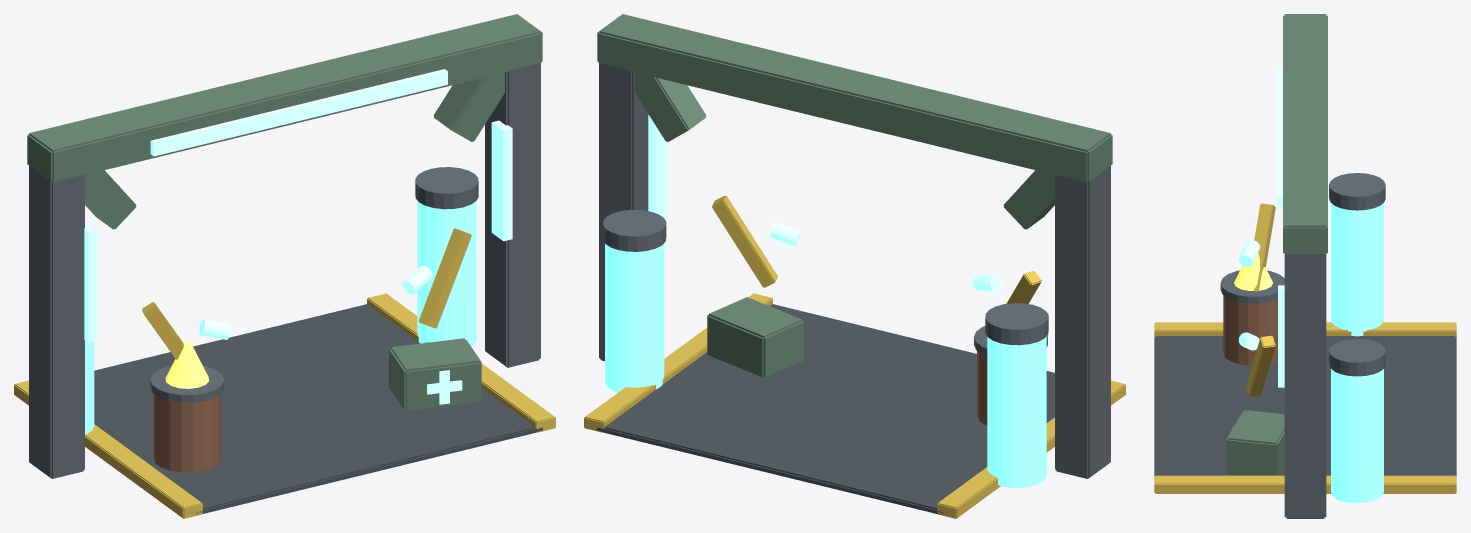
Rendered from node_rest_shelter.glb.
3 renders of one model, left to right at view 1: azimuth 30°, elevation 25°; view 2: azimuth 150°, elevation 25°; view 3: azimuth 270°, elevation 25°, orthographic. The views are drawn at different scales.
Parts seen in each view (by area): view 1: ServiceDeckPad, TopShelterBeam, ArchPillar_L, ArchPillar_R, MedTank_R, MedCrate, TopSafeLightStrip, BrazierBarrel, PadCurb_L, ArchBrace_R, PadCurb_R, WallBeacon_R (+8 smaller); view 2: ServiceDeckPad, TopShelterBeam, ArchPillar_L, MedTank_L, MedTank_R, ArchPillar_R, MedCrate, ArchBrace_R, PadCurb_R, MedTankCap_L, MedTankCap_R, PadCurb_L (+5 smaller); view 3: ServiceDeckPad, ArchPillar_R, TopShelterBeam, MedTank_R, MedTank_L, PadCurb_R, MedCrate, BrazierBarrel, PadCurb_L, MedTankCap_R, MedTankCap_L, BrazierRim (+6 smaller).
Boxes of the visible parts, x1,y1,x2,y2 form: ServiceDeckPad: [94, 304, 542, 513]; TopShelterBeam: [27, 14, 542, 182]; ArchPillar_L: [29, 165, 84, 478]; ArchPillar_R: [485, 63, 540, 367]; MedTank_R: [417, 200, 476, 346]; MedCrate: [389, 338, 481, 410]; TopSafeLightStrip: [150, 69, 447, 156]; BrazierBarrel: [153, 393, 221, 472]; PadCurb_L: [14, 380, 202, 518]; ArchBrace_R: [433, 72, 504, 141]; PadCurb_R: [367, 293, 555, 432]; WallBeacon_R: [491, 120, 512, 241]; ServiceDeckPad: [597, 304, 1054, 514]; TopShelterBeam: [597, 14, 1112, 182]; ArchPillar_L: [1055, 165, 1110, 478]; MedTank_L: [987, 336, 1046, 487]; MedTank_R: [605, 243, 664, 392]; ArchPillar_R: [599, 63, 648, 361]; MedCrate: [707, 297, 803, 377]; ArchBrace_R: [635, 72, 706, 141]; PadCurb_R: [584, 293, 772, 432]; MedTankCap_L: [985, 303, 1048, 345]; MedTankCap_R: [603, 209, 666, 251]; PadCurb_L: [937, 380, 1125, 518]; ServiceDeckPad: [1154, 336, 1456, 476]; ArchPillar_R: [1284, 254, 1326, 518]; TopShelterBeam: [1283, 14, 1327, 254]; MedTank_R: [1331, 369, 1383, 503]; MedTank_L: [1331, 203, 1383, 336]; PadCurb_R: [1154, 475, 1456, 493]; MedCrate: [1226, 410, 1284, 475]; BrazierBarrel: [1223, 295, 1277, 365]; PadCurb_L: [1154, 322, 1456, 337]; MedTankCap_R: [1329, 339, 1385, 376]; MedTankCap_L: [1329, 173, 1385, 210]; BrazierRim: [1220, 270, 1284, 303].
Size of the model in its own units: 5.35 by 3.43 by 3.2.
